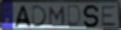A: (12, 5, 34, 29)
D: (31, 5, 49, 28), (67, 5, 83, 28)
E: (101, 5, 118, 27)
M: (48, 6, 66, 27)
S: (82, 4, 102, 28)
